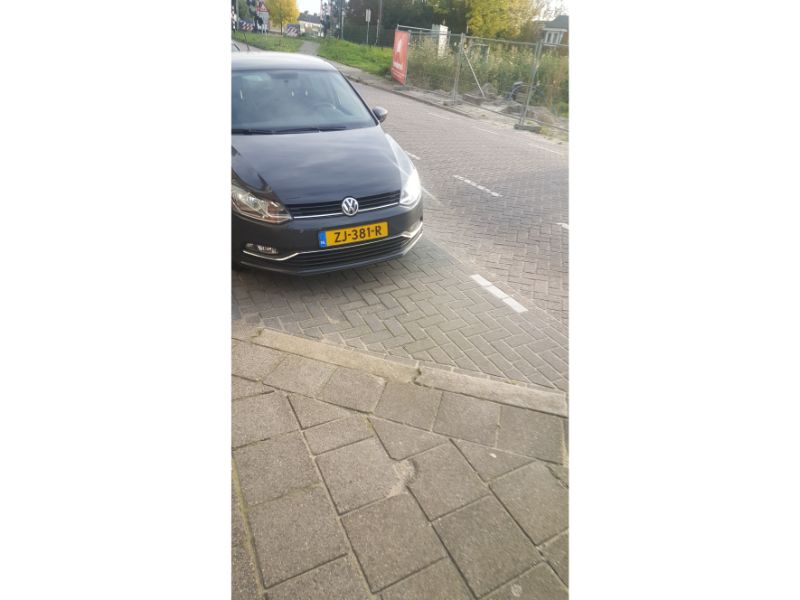kenteken: (317, 217, 394, 251)
